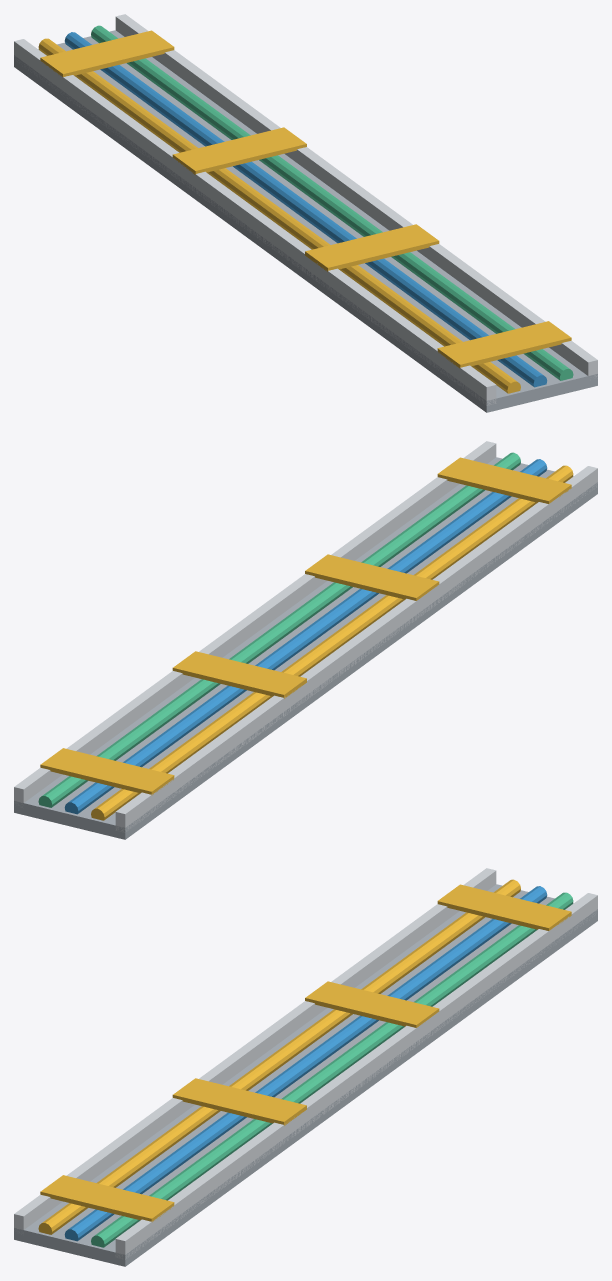
The model's file is ENERGY-015.glb.
The picture shows the model from 3 angles, top to bottom: view 1: azimuth 30°, elevation 25°; view 2: azimuth 150°, elevation 25°; view 3: azimuth 330°, elevation 25°; orthographic projection.
Parts seen in each view (by area): view 1: ENERGY-015; view 2: ENERGY-015; view 3: ENERGY-015.
Part boxes in pixels (x1,y1,x2,y2): ENERGY-015: (14,14,597,412); ENERGY-015: (14,441,597,839); ENERGY-015: (14,868,597,1266).
Bounding box in the file's own units: 0.68 × 0.1675 × 5.
